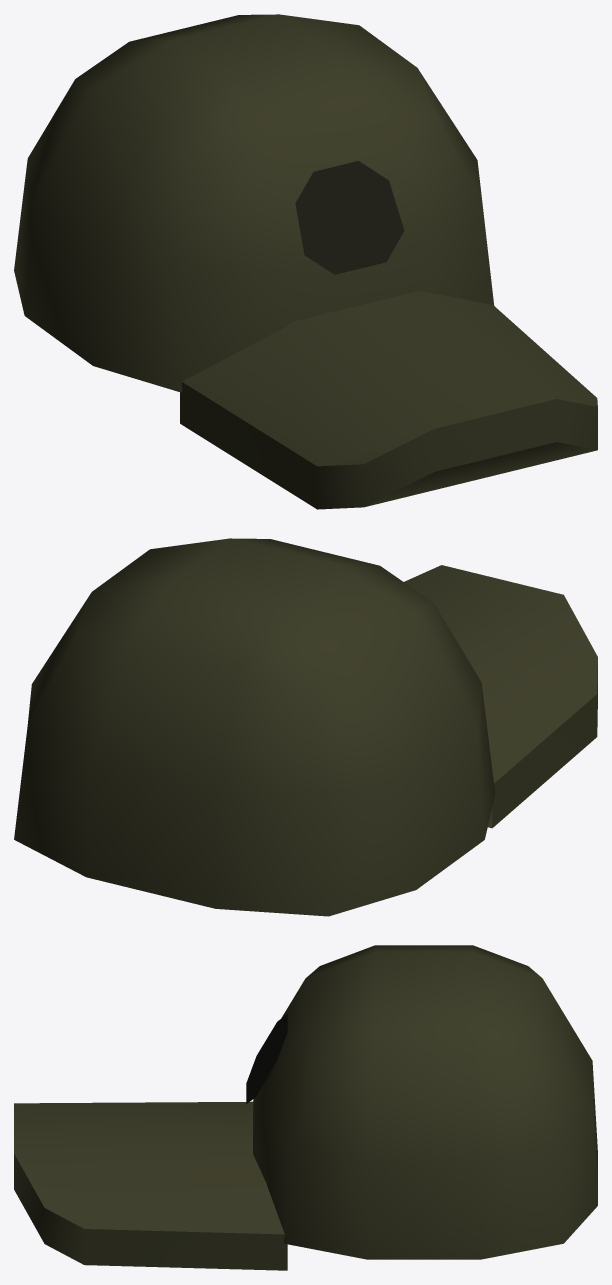
File: ZooGuardHat_Mesh.fbx
3 renders of one model, top to bottom at view 1: azimuth 30°, elevation 25°; view 2: azimuth 150°, elevation 25°; view 3: azimuth 270°, elevation 25°, orthographic. The views are drawn at different scales.
Visible parts, largest first — view 1: ZooGuardHat_Mesh; view 2: ZooGuardHat_Mesh; view 3: ZooGuardHat_Mesh.
Part boxes in pixels (bbox=[...]): ZooGuardHat_Mesh: bbox=[14, 14, 597, 509]; ZooGuardHat_Mesh: bbox=[14, 538, 597, 916]; ZooGuardHat_Mesh: bbox=[14, 945, 597, 1270].
Size of the model in its own units: 0.2017 by 0.1374 by 0.3106.
